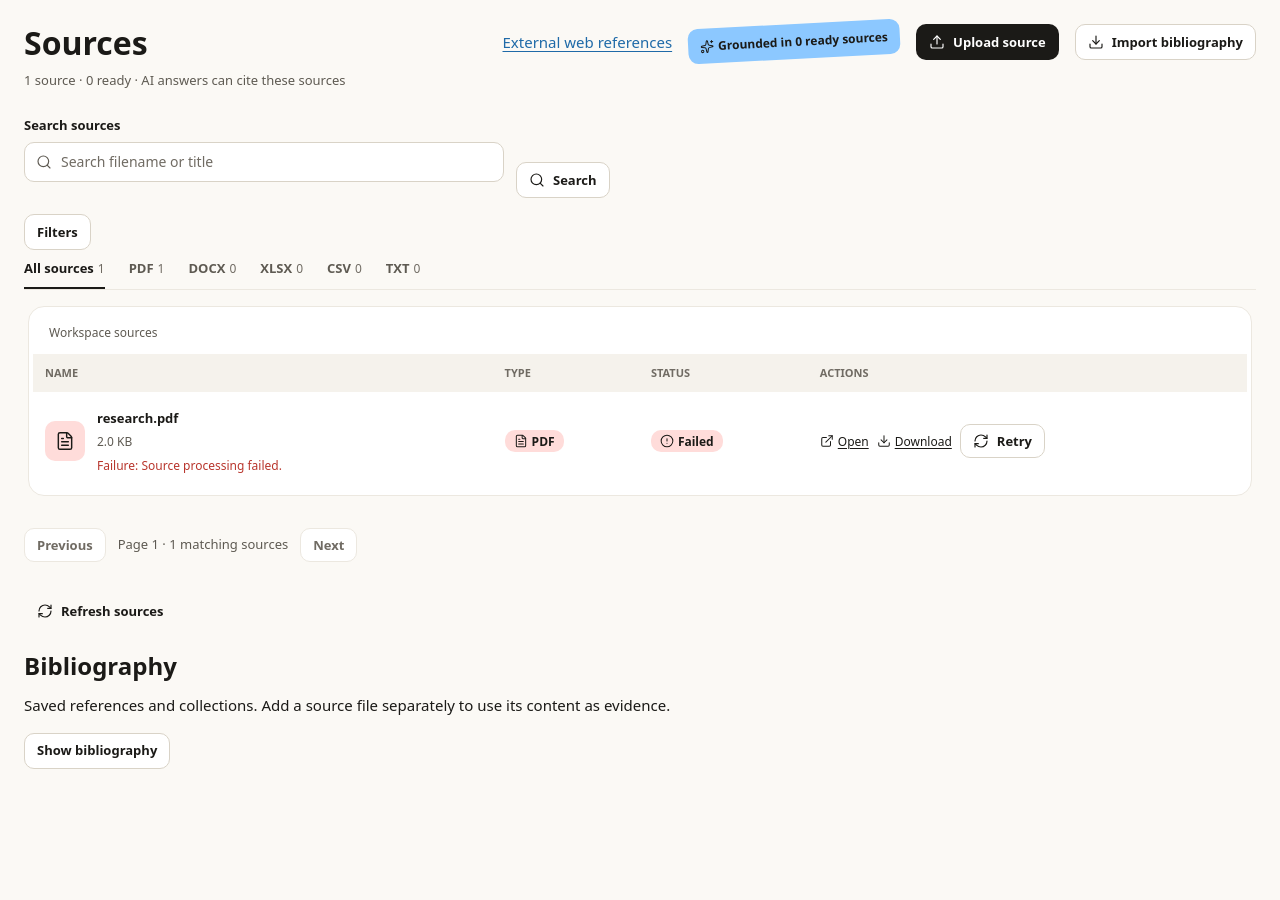
it: uses reprocess for Retry and updates the row; reports retry errors
Click the button "Retry": [1002, 441] box 960,424 -> 1045,458
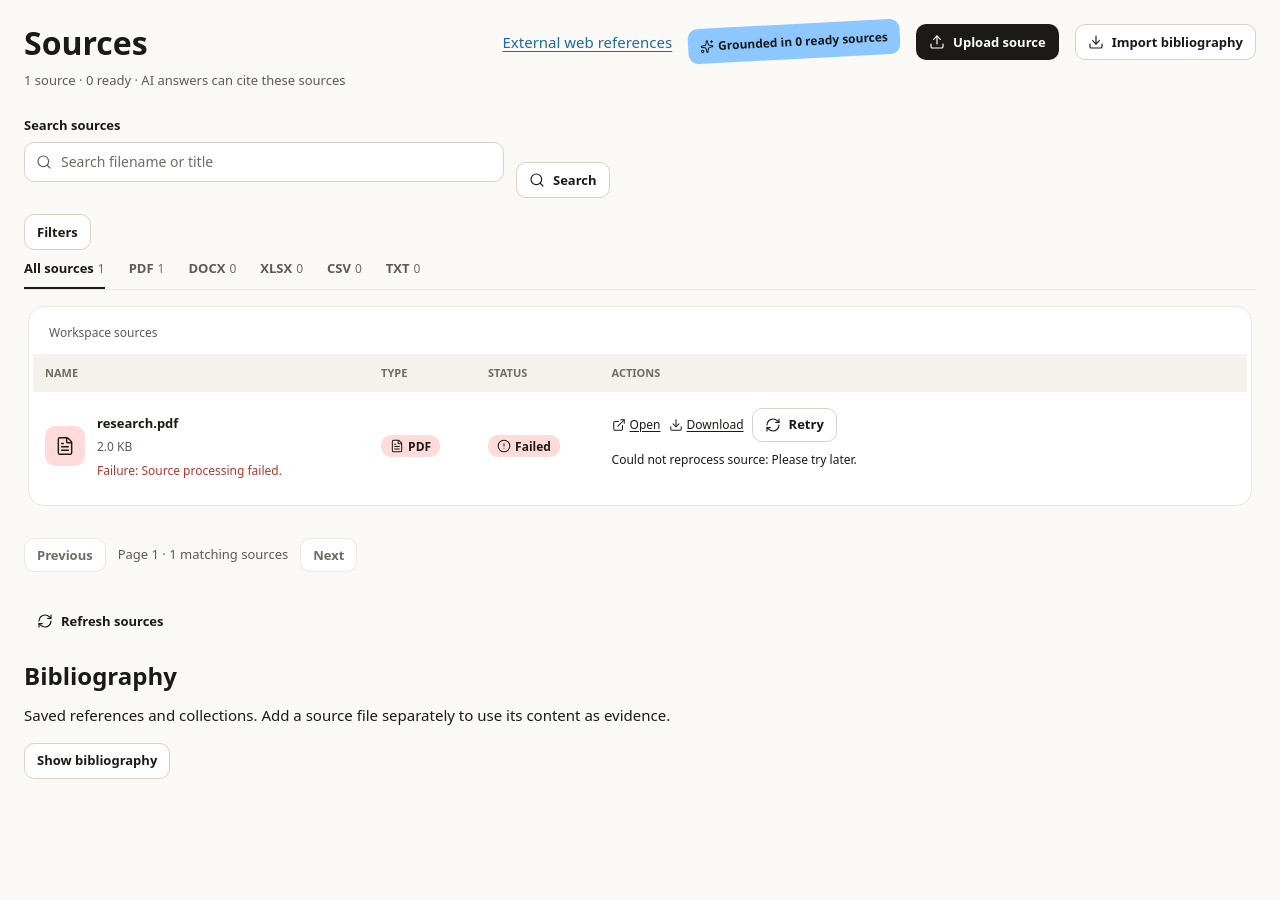
Expected: the message "Could not reprocess source: Please try later." is shown, 612,451 -> 857,468
Click the button "Retry": [794, 425] box 752,408 -> 837,442
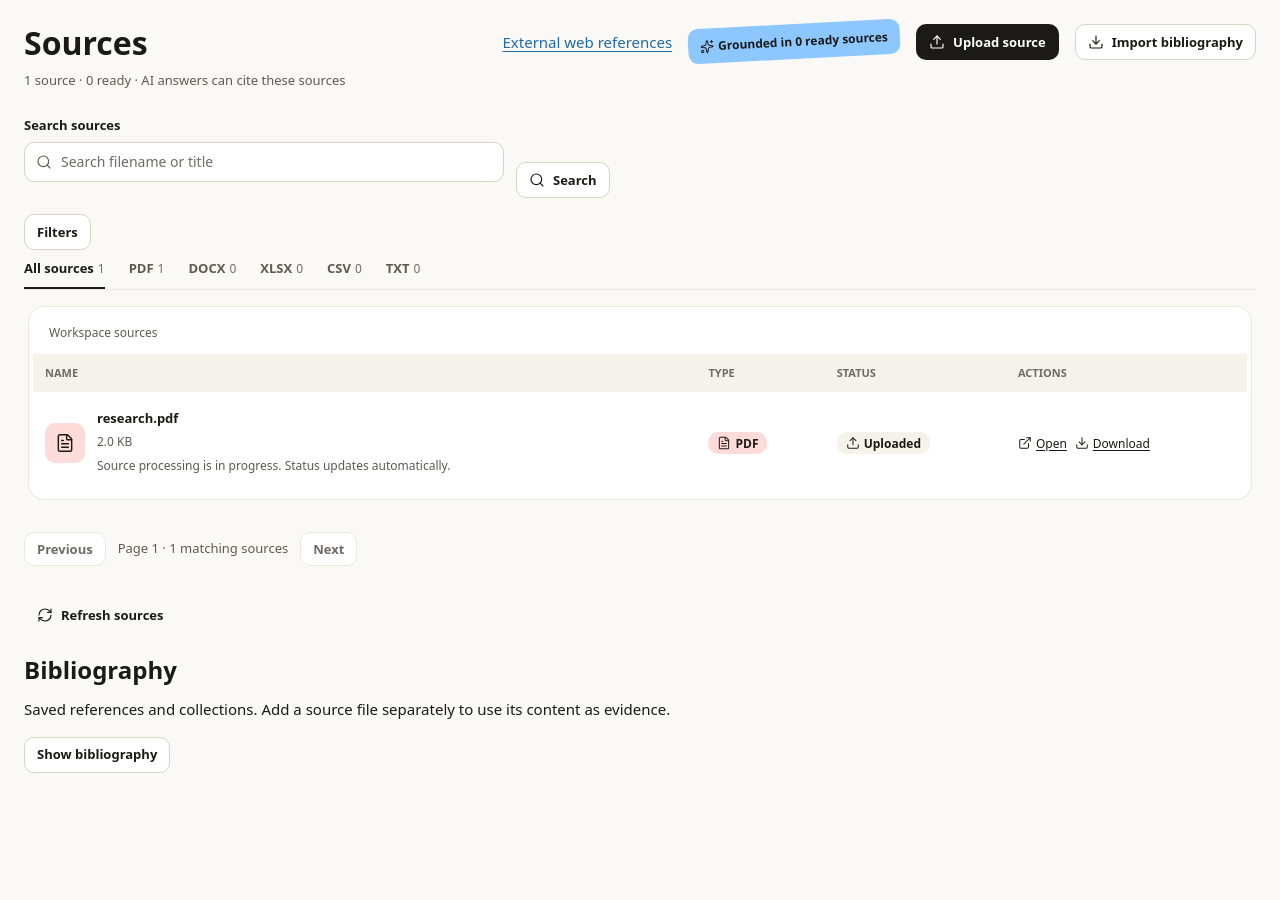
Expected: the text "Uploaded" is shown, 837,432 -> 930,454
